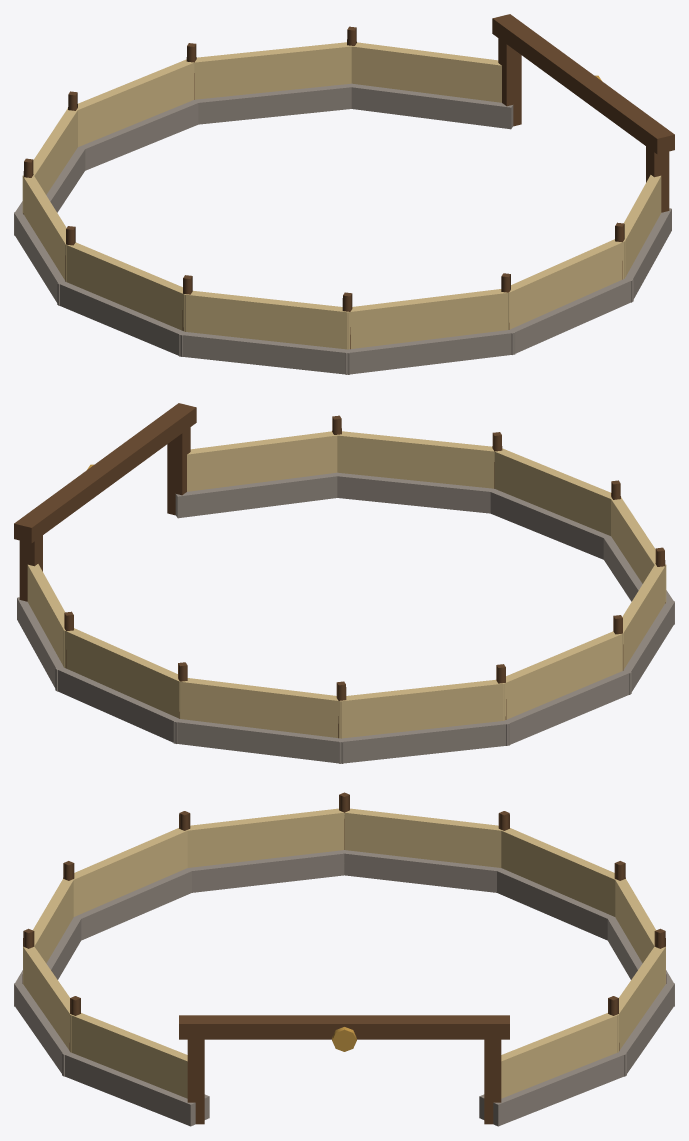
The model's file is base_builder_walls_1.glb.
3 views of the same model, one above another, from view 1: azimuth 30°, elevation 25°; view 2: azimuth 150°, elevation 25°; view 3: azimuth 270°, elevation 25° (orthographic).
Visible parts, largest first — view 1: wall_6_planks, wall_7_planks, wall_1_planks, wall_0_planks, gate_beam, wall_5_planks, wall_8_planks, wall_2_planks, wall_6, wall_7, wall_0, wall_1 (+11 smaller); view 2: wall_3_planks, wall_2_planks, wall_8_planks, wall_9_planks, gate_beam, wall_4_planks, wall_1_planks, wall_7_planks, wall_3, wall_2, wall_9, wall_8 (+11 smaller); view 3: gate_beam, wall_4_planks, wall_5_planks, wall_0_planks, wall_9_planks, wall_3_planks, wall_6_planks, wall_4, wall_5, wall_0, wall_9, wall_3 (+11 smaller).
Boxes of the visible parts, box(x1,y1,x2,y2) form: wall_6_planks: box(184, 290, 348, 349); wall_7_planks: box(347, 289, 509, 349); wall_1_planks: box(190, 42, 351, 99); wall_0_planks: box(348, 42, 501, 102); gate_beam: box(492, 14, 674, 154); wall_5_planks: box(65, 242, 192, 331); wall_8_planks: box(508, 239, 625, 329); wall_2_planks: box(76, 59, 195, 146); wall_6: box(179, 331, 351, 374); wall_7: box(345, 329, 515, 374); wall_0: box(343, 83, 513, 129); wall_1: box(189, 83, 359, 124); wall_3_planks: box(340, 679, 504, 738); wall_2_planks: box(179, 678, 341, 738); wall_8_planks: box(336, 431, 498, 488); wall_9_planks: box(187, 431, 340, 491); gate_beam: box(14, 403, 196, 543); wall_4_planks: box(496, 631, 623, 720); wall_1_planks: box(63, 628, 180, 718); wall_7_planks: box(492, 448, 612, 535); wall_3: box(337, 719, 509, 763); wall_2: box(173, 719, 343, 763); wall_9: box(175, 473, 341, 518); wall_8: box(329, 472, 499, 513); gate_beam: box(179, 1015, 509, 1039); wall_4_planks: box(341, 808, 502, 867); wall_5_planks: box(185, 808, 347, 867); wall_0_planks: box(501, 1013, 618, 1098); wall_9_planks: box(70, 1013, 187, 1098); wall_3_planks: box(499, 828, 615, 916); wall_6_planks: box(73, 828, 187, 916); wall_4: box(336, 850, 505, 892); wall_5: box(182, 850, 350, 892); wall_0: box(479, 1050, 626, 1126); wall_9: box(62, 1050, 209, 1126); wall_3: box(491, 867, 616, 940).
Bounding box in the file's own units: 0.9126 × 0.1625 × 0.9627.
